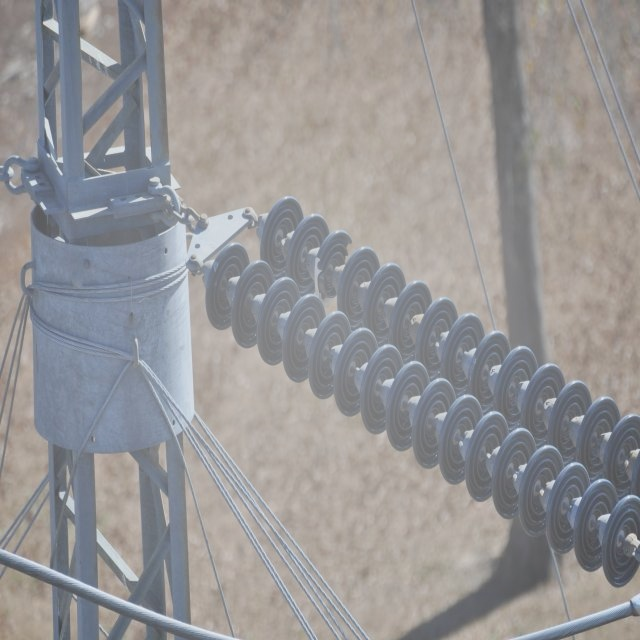broken: (312, 227, 353, 305)
insulator: (205, 196, 638, 588)
